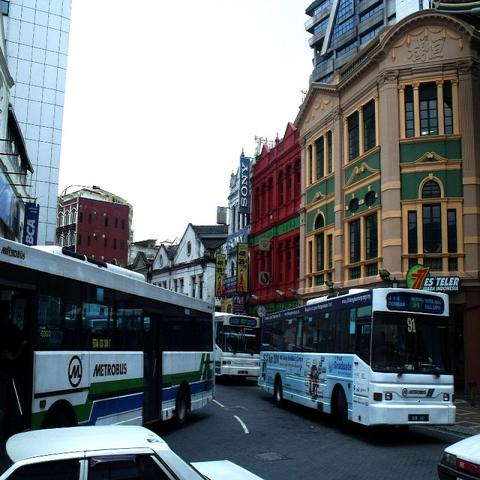bus: (0, 239, 217, 432), (257, 290, 455, 427), (214, 312, 260, 384)
car: (0, 424, 265, 479), (436, 432, 480, 479)
